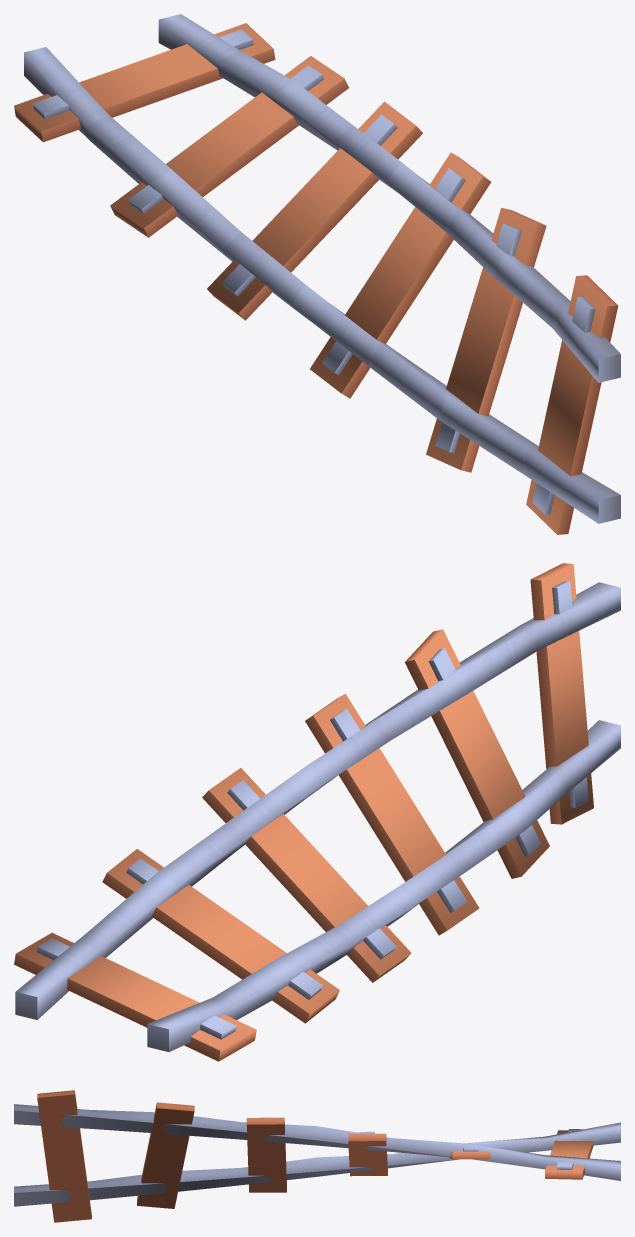
Rendered from kenney-train-railroad-damaged-straight-skew-right-side.glb.
3 renders of one model, top to bottom at view 1: azimuth 30°, elevation 25°; view 2: azimuth 150°, elevation 25°; view 3: azimuth 270°, elevation 25°, orthographic. The views are drawn at different scales.
Parts seen in each view (by area): view 1: railroad-damaged-straight-skew-right-side; view 2: railroad-damaged-straight-skew-right-side; view 3: railroad-damaged-straight-skew-right-side.
Boxes of the visible parts, x1,y1,x2,y2 form: railroad-damaged-straight-skew-right-side: [14, 14, 620, 534]; railroad-damaged-straight-skew-right-side: [14, 563, 620, 1061]; railroad-damaged-straight-skew-right-side: [14, 1090, 620, 1222].
Size of the model in its own units: 1.01 by 1.02 by 4.
Materials: 1 (1 with a texture image).
